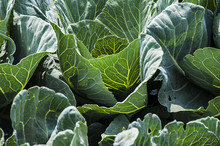cabage: (1, 1, 218, 146)
